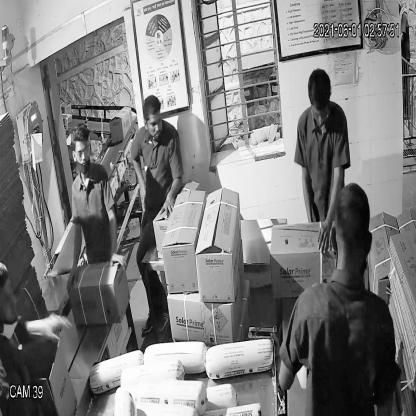goggles: (72, 143, 93, 165)
